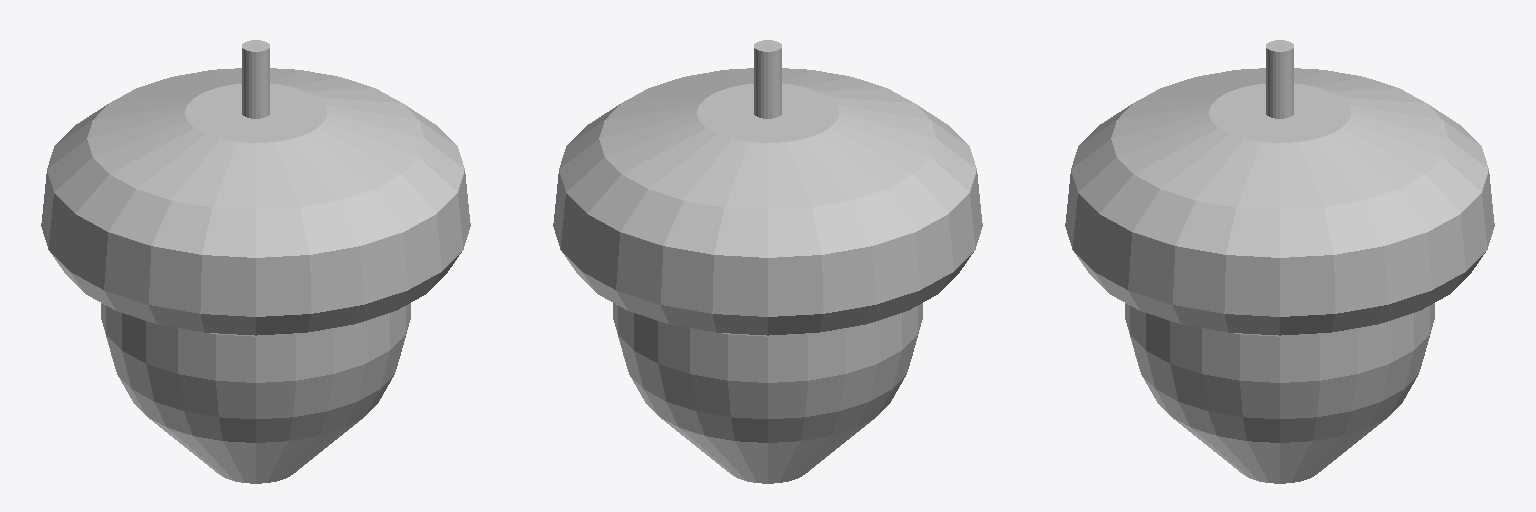
The model's file is Acorn.obj.
3 views of the same model, side by side, from view 1: azimuth 30°, elevation 25°; view 2: azimuth 150°, elevation 25°; view 3: azimuth 270°, elevation 25° (orthographic).
Parts seen in each view (by area): view 1: Cone001; view 2: Cone001; view 3: Cone001.
Boxes of the visible parts, <box> form: Cone001: <box>41,40,470,483</box>; Cone001: <box>553,40,982,483</box>; Cone001: <box>1065,40,1494,483</box>.
Bounding box in the file's own units: 1.17 × 1.27 × 1.17.